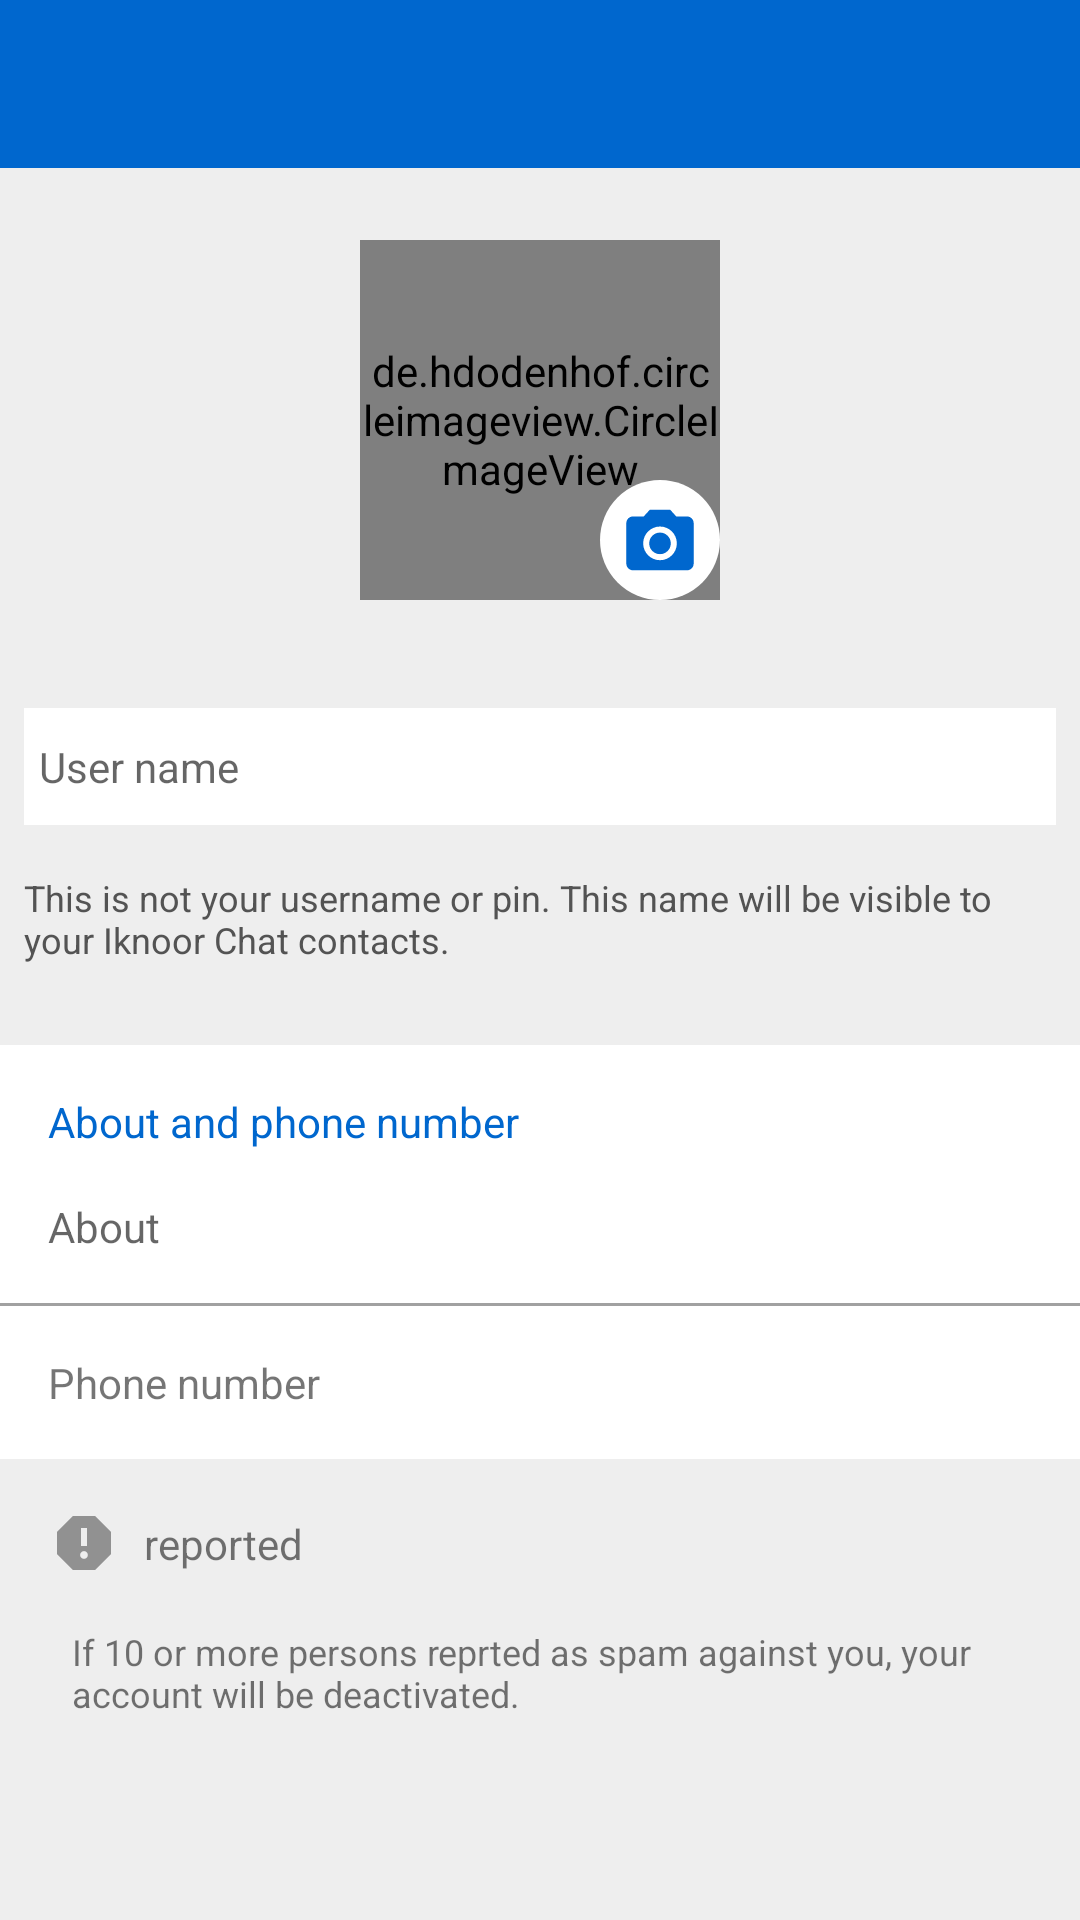

Point at icon controls on the screen. Image size 1080x1920, points as [x,y].
edit profile: [660,540]
